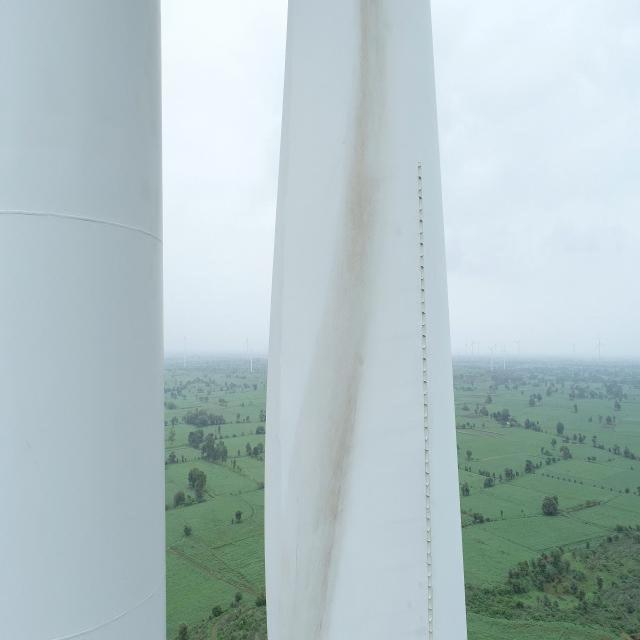Dirt: (275, 0, 392, 639)
